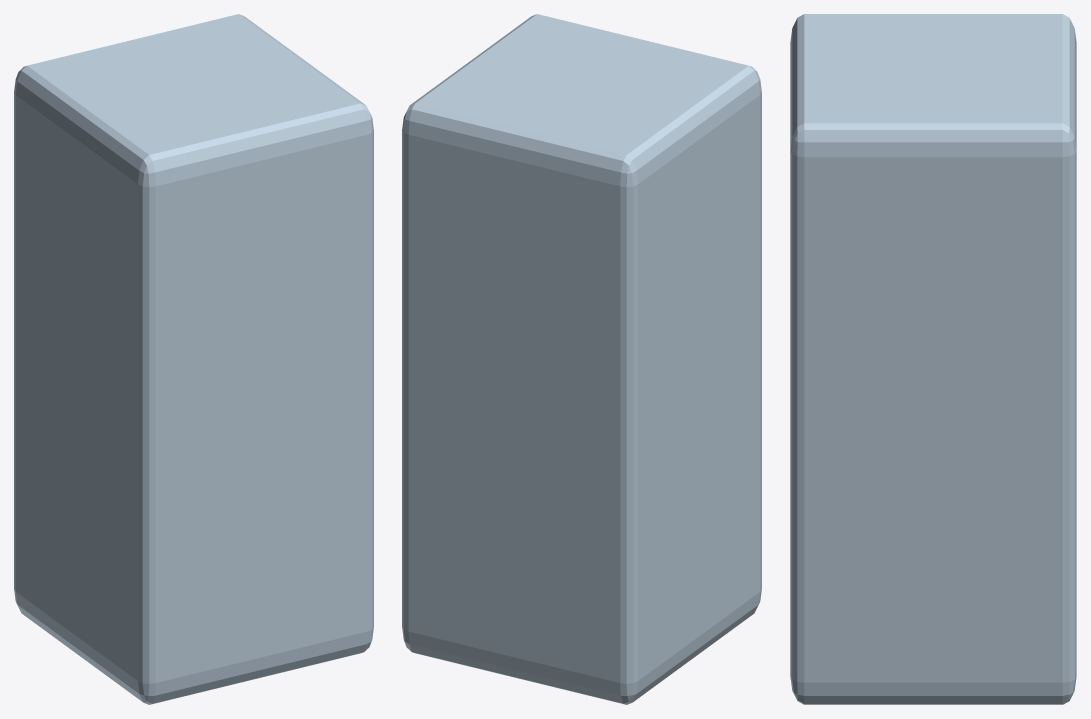
3 renders of one model, left to right at view 1: azimuth 30°, elevation 25°; view 2: azimuth 150°, elevation 25°; view 3: azimuth 270°, elevation 25°, orthographic. The views are drawn at different scales.
Visible parts, largest first — view 1: Cube.001; view 2: Cube.001; view 3: Cube.001.
Boxes of the visible parts, x1=… form: Cube.001: x1=14, y1=14, x2=373, y2=704; Cube.001: x1=402, y1=14, x2=761, y2=704; Cube.001: x1=790, y1=14, x2=1076, y2=704.
Bounding box in the file's own units: 38 × 85.26 × 38.
